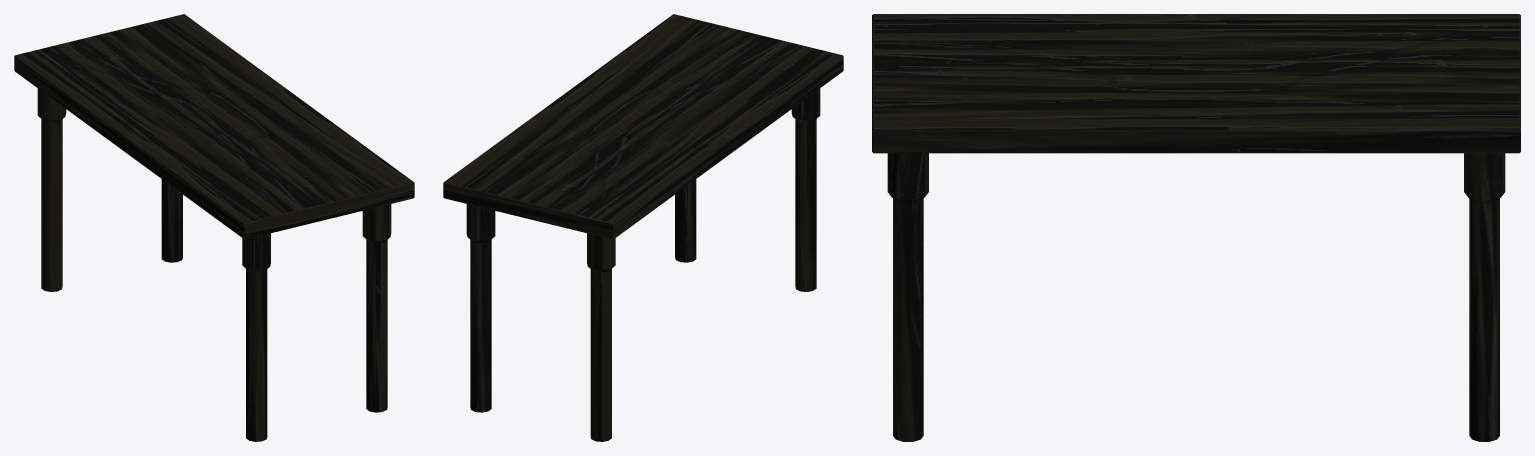
File: InsiderTradingGame_Desk.fbx
3 views of the same model, side by side, from view 1: azimuth 30°, elevation 25°; view 2: azimuth 150°, elevation 25°; view 3: azimuth 270°, elevation 25° (orthographic). The views are drawn at different scales.
Parts seen in each view (by area): view 1: Cube.006; view 2: Cube.006; view 3: Cube.006.
Part boxes in pixels (box(x1,y1,x2,y2)): Cube.006: box(14, 14, 414, 441); Cube.006: box(443, 14, 843, 441); Cube.006: box(872, 14, 1520, 441).
Size of the model in its own units: 396 by 507 by 924.
1 material, 1 textured.
